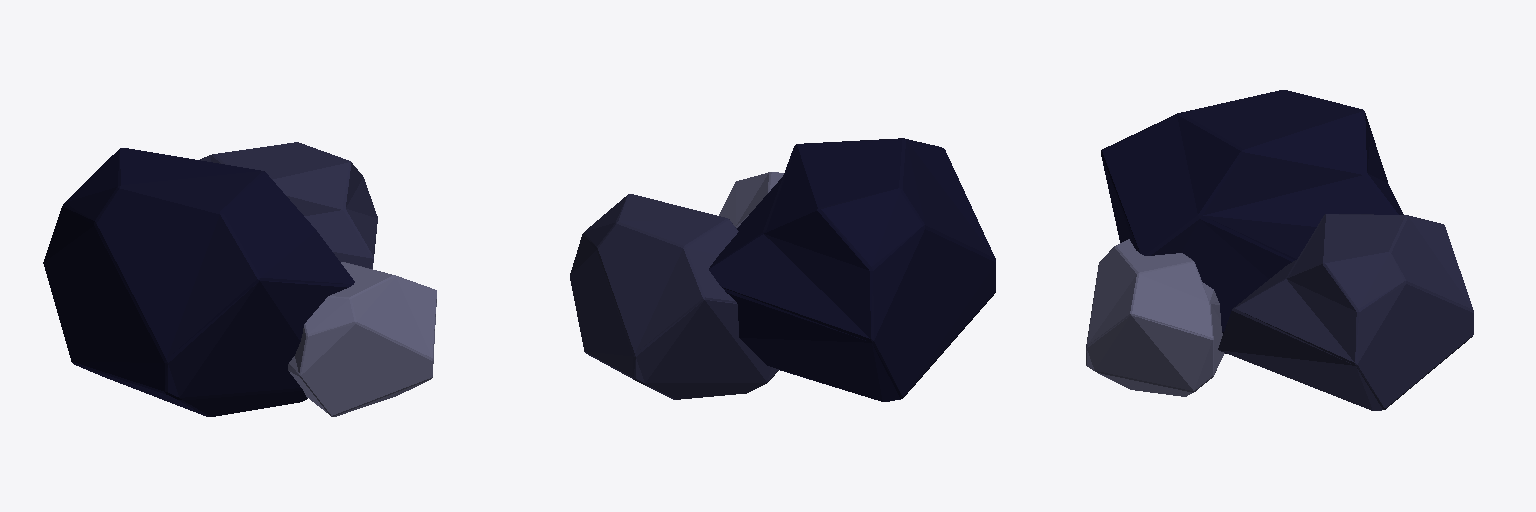
File: Rocks.obj
3 renders of one model, left to right at view 1: azimuth 30°, elevation 25°; view 2: azimuth 150°, elevation 25°; view 3: azimuth 270°, elevation 25°, orthographic.
Bounding box in the file's own units: 6.58 × 4 × 6.92.